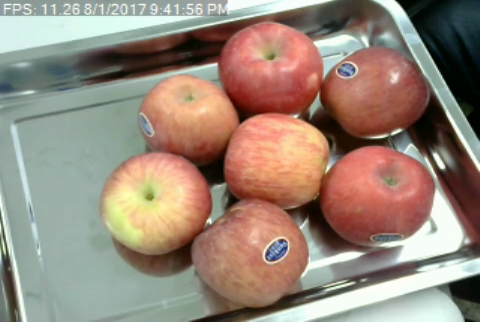Apple: (95, 150, 219, 257), (314, 145, 439, 245), (194, 196, 305, 308), (219, 15, 324, 124), (223, 110, 330, 212), (319, 46, 429, 139), (134, 74, 242, 163)
